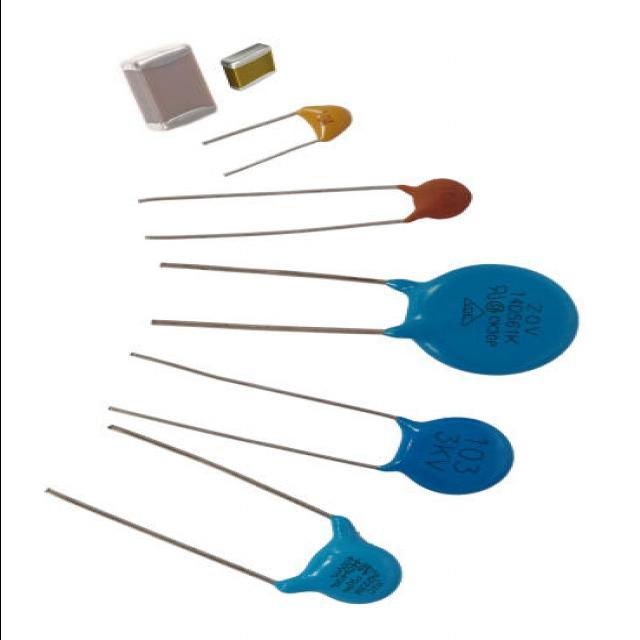Capacitor: (109, 352, 514, 494), (46, 461, 401, 603), (153, 263, 579, 374), (139, 179, 471, 240), (203, 105, 350, 176)
